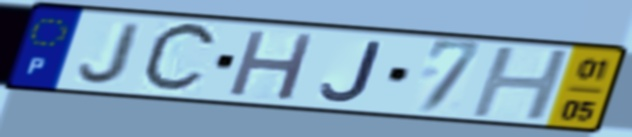7: (408, 38, 486, 119)
C: (136, 19, 223, 98)
H: (466, 46, 575, 122), (224, 27, 321, 103)
J: (74, 20, 147, 86), (318, 39, 385, 104)
